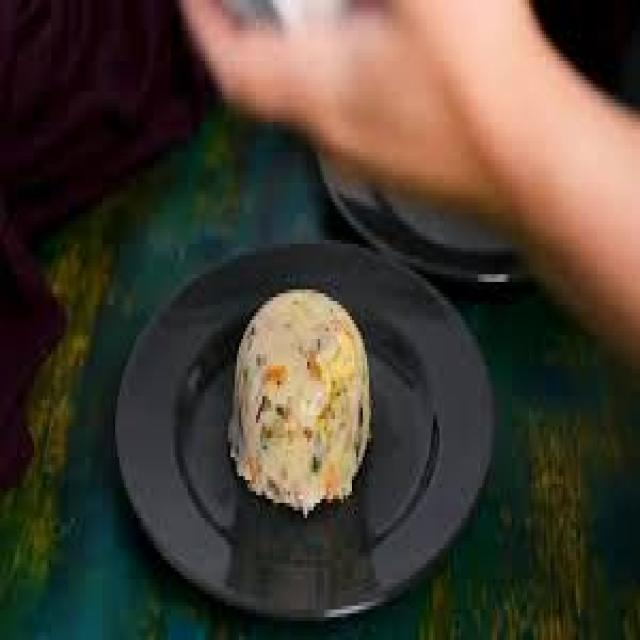UPMA: (230, 286, 369, 507)
